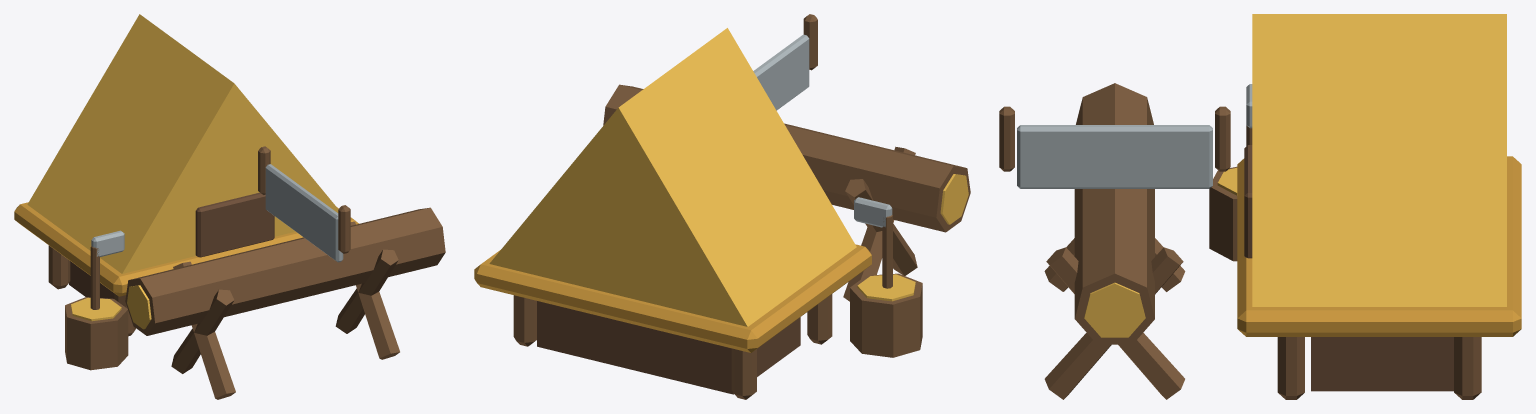
File: ns-lumber-camp.glb
3 views of the same model, side by side, from view 1: azimuth 30°, elevation 25°; view 2: azimuth 150°, elevation 25°; view 3: azimuth 270°, elevation 25° (orthographic). The views are drawn at different scales.
Visible parts, largest first — view 1: Cube; view 2: Cube; view 3: Cube.
Boxes of the visible parts, <box> form: Cube: <box>14,14,445,399</box>; Cube: <box>474,14,970,399</box>; Cube: <box>999,14,1521,399</box>.
Bounding box in the file's own units: 0.498 × 0.3715 × 0.533.
